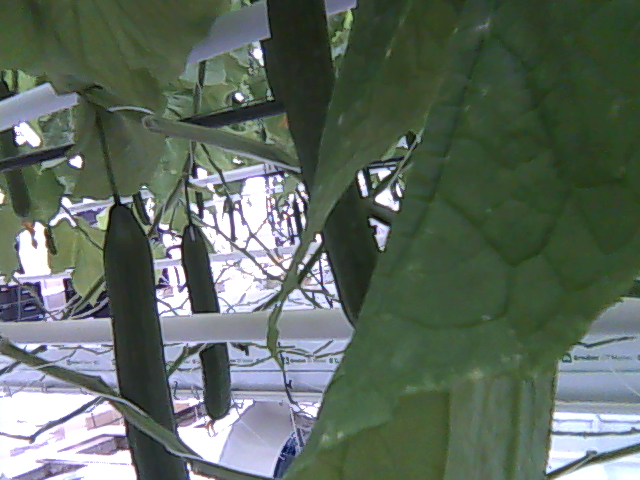concombre: (266, 1, 383, 330), (101, 195, 194, 480)
